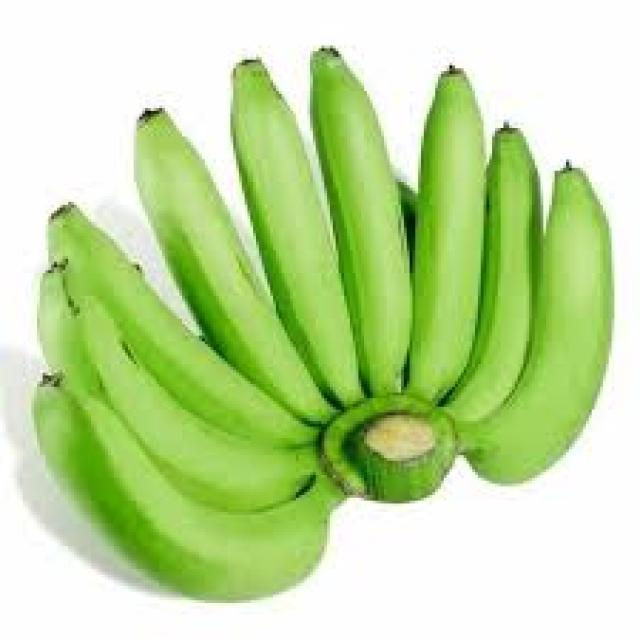Banana: (49, 431, 341, 591), (322, 100, 420, 331), (243, 126, 347, 335), (411, 103, 477, 389), (547, 183, 611, 459), (53, 342, 228, 440), (145, 181, 270, 313), (48, 242, 194, 330), (489, 163, 532, 399)
